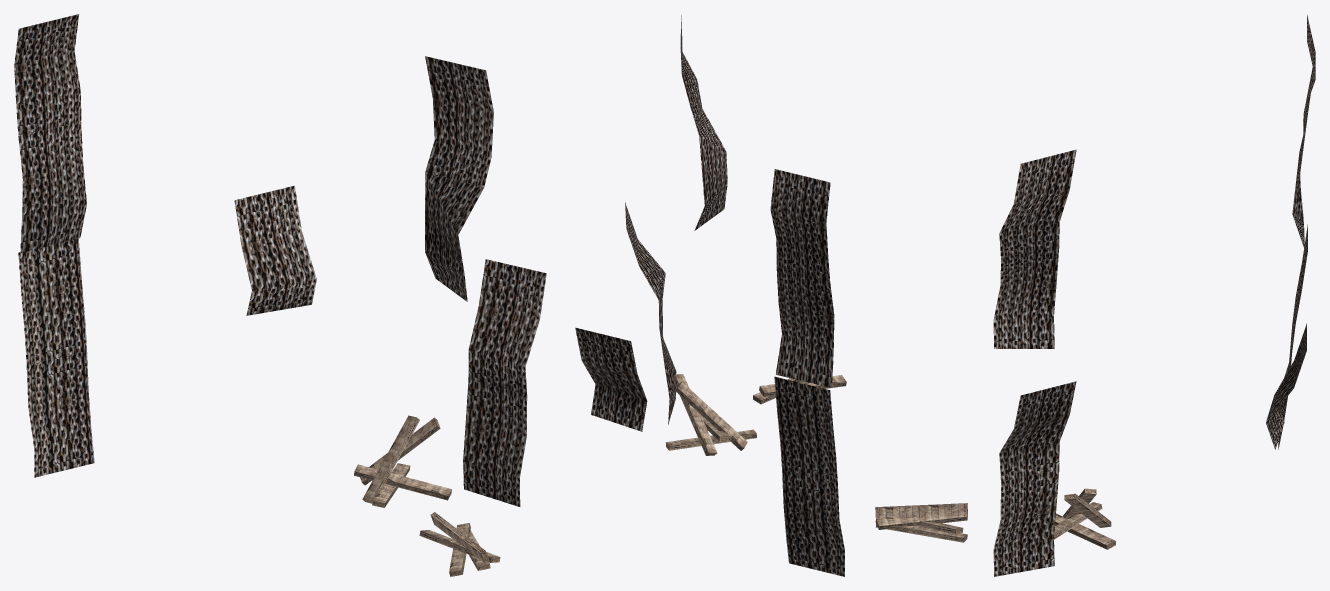
Rendered from garage_small prop add.fbx.
3 renders of one model, left to right at view 1: azimuth 30°, elevation 25°; view 2: azimuth 150°, elevation 25°; view 3: azimuth 270°, elevation 25°, orthographic. The views are drawn at different scales.
Visible parts, largest first — view 1: pPlane6, pPlane8, pPlane5, pPlane7, pPlane2, Wooden_box_v1_LD9; view 2: pPlane8, pPlane5, pPlane2, Wooden_box_v1_LD9, pPlane7, pPlane6; view 3: pPlane7, pPlane6, Wooden_box_v1_LD9, pPlane2, pPlane8, pPlane5.
Boxes of the visible parts, bbox=[...] form: pPlane6: bbox=[463, 259, 546, 506]; pPlane8: bbox=[14, 14, 86, 253]; pPlane5: bbox=[18, 238, 94, 477]; pPlane7: bbox=[425, 56, 493, 301]; pPlane2: bbox=[234, 185, 316, 315]; Wooden_box_v1_LD9: bbox=[354, 415, 500, 576]; pPlane8: bbox=[770, 169, 834, 387]; pPlane5: bbox=[774, 376, 844, 576]; pPlane2: bbox=[575, 327, 647, 431]; Wooden_box_v1_LD9: bbox=[665, 374, 846, 455]; pPlane7: bbox=[680, 15, 727, 230]; pPlane6: bbox=[625, 202, 676, 424]; pPlane7: bbox=[993, 149, 1076, 348]; pPlane6: bbox=[993, 381, 1076, 576]; Wooden_box_v1_LD9: bbox=[875, 488, 1115, 549]; pPlane2: bbox=[1266, 323, 1306, 449]; pPlane8: bbox=[1292, 14, 1315, 249]; pPlane5: bbox=[1278, 224, 1307, 449].
Bounding box in the file's own units: 7.87 × 8.78 × 8.54.
